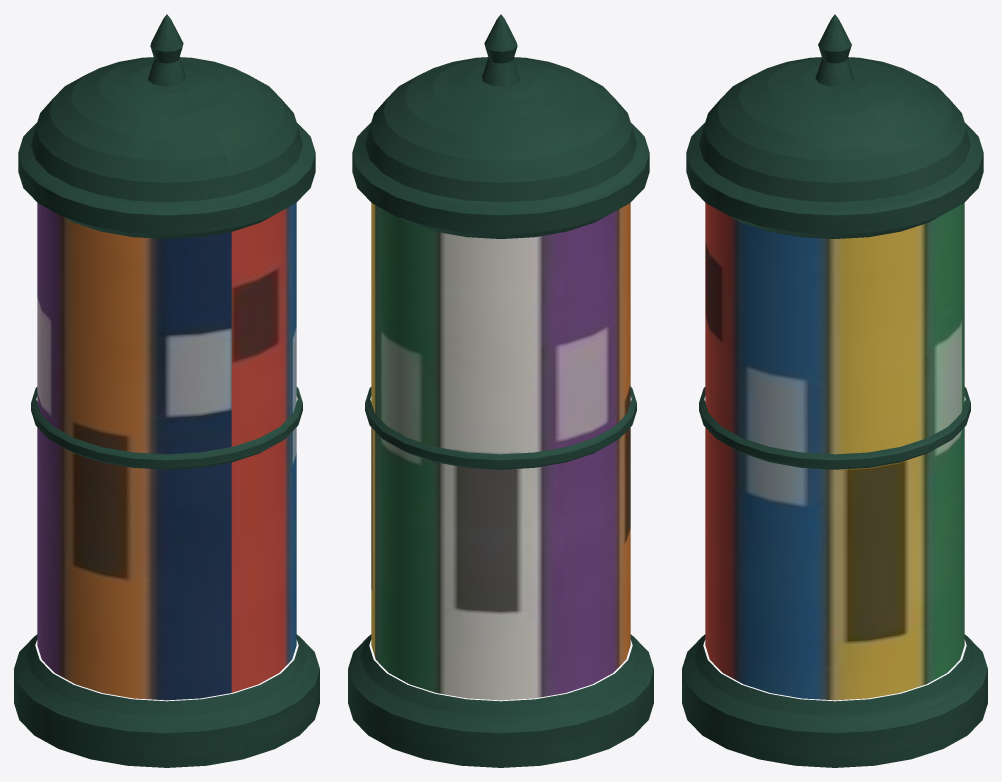
File: colonne_morris_lod0.glb
3 renders of one model, left to right at view 1: azimuth 30°, elevation 25°; view 2: azimuth 150°, elevation 25°; view 3: azimuth 270°, elevation 25°, orthographic.
Visible parts, largest first — view 1: colonne_morris; view 2: colonne_morris; view 3: colonne_morris.
Part boxes in pixels (<box>): colonne_morris: <box>14,14,319,767</box>; colonne_morris: <box>348,14,653,767</box>; colonne_morris: <box>682,14,987,767</box>.
Size of the model in its own units: 1.44 by 3.58 by 1.44.
Materials: 1 (1 with a texture image).
